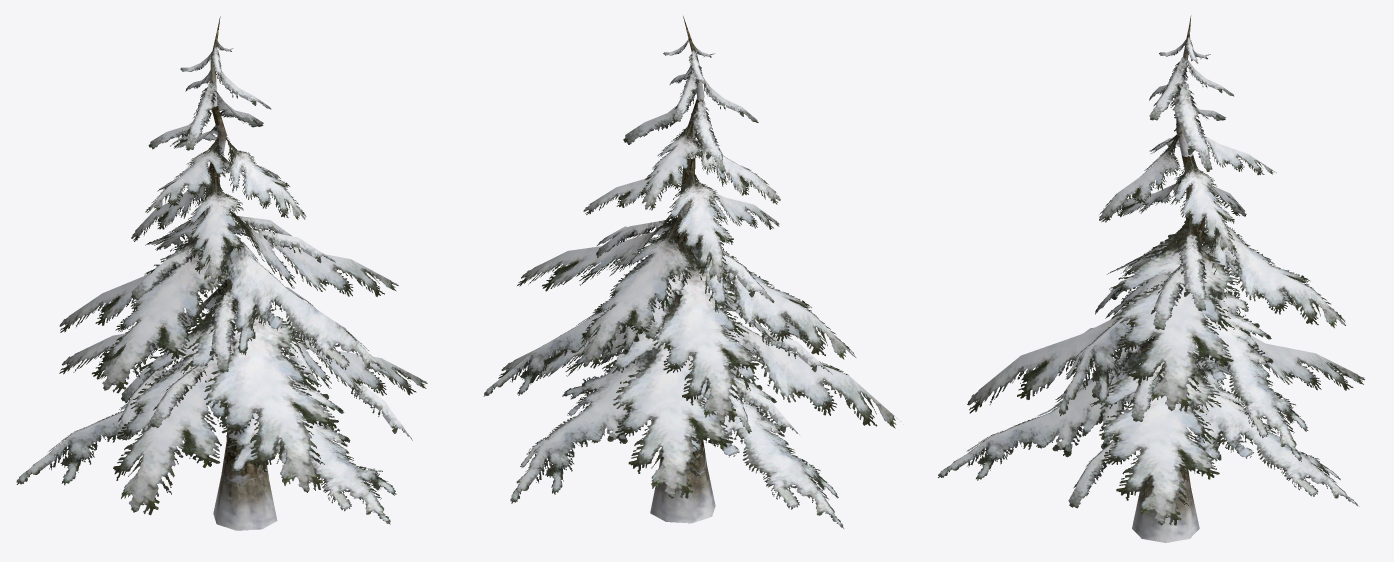
Rendered from Tree01.FBX.
3 renders of one model, left to right at view 1: azimuth 30°, elevation 25°; view 2: azimuth 150°, elevation 25°; view 3: azimuth 270°, elevation 25°, orthographic. The views are drawn at different scales.
Visible parts, largest first — view 1: tree01; view 2: tree01; view 3: tree01.
Boxes of the visible parts, x1=… form: tree01: x1=16, y1=15, x2=427, y2=530; tree01: x1=483, y1=16, x2=900, y2=528; tree01: x1=938, y1=15, x2=1364, y2=542.
Size of the model in its own units: 452 by 570 by 451.
